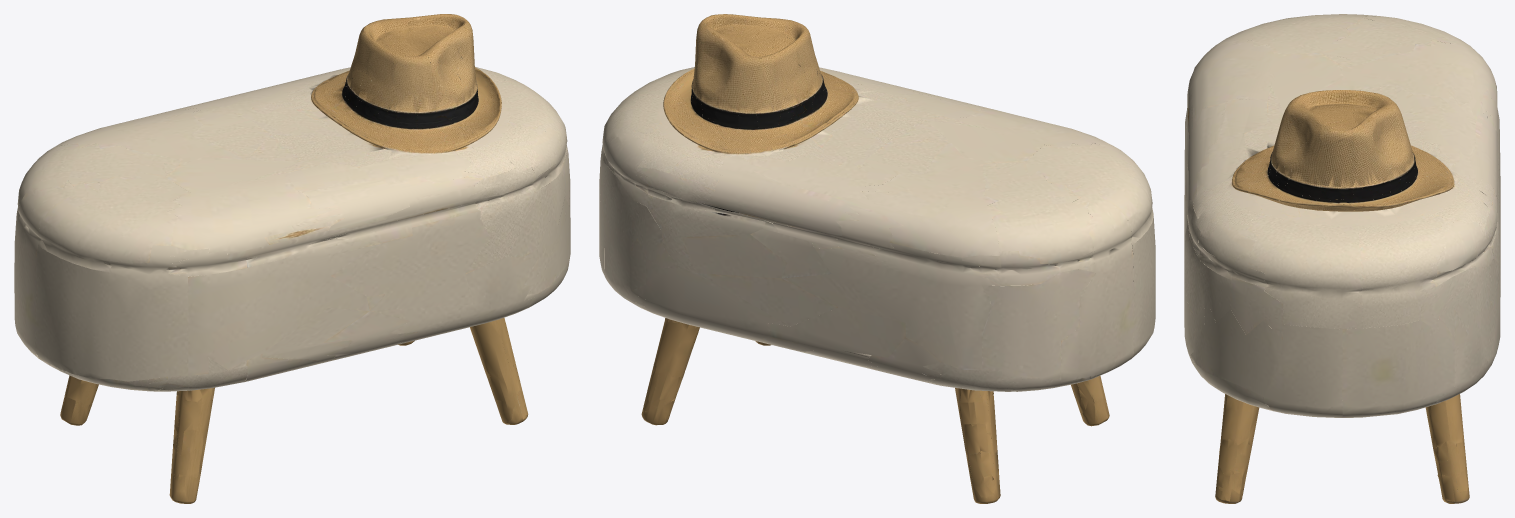
Rendered from shadowkart-upholstered-ottoman-storage-bench-premium-boucle-.glb.
3 views of the same model, side by side, from view 1: azimuth 30°, elevation 25°; view 2: azimuth 150°, elevation 25°; view 3: azimuth 270°, elevation 25° (orthographic). The views are drawn at different scales.
Parts seen in each view (by area): view 1: Mesh_0; view 2: Mesh_0; view 3: Mesh_0.
Part boxes in pixels (left/top/right/bottom): Mesh_0: left=14, top=14, right=570, bottom=503; Mesh_0: left=599, top=14, right=1155, bottom=503; Mesh_0: left=1184, top=14, right=1500, bottom=503.
Bounding box in the file's own units: 1.9 × 1.29 × 0.9814.
1 material, 1 textured.
